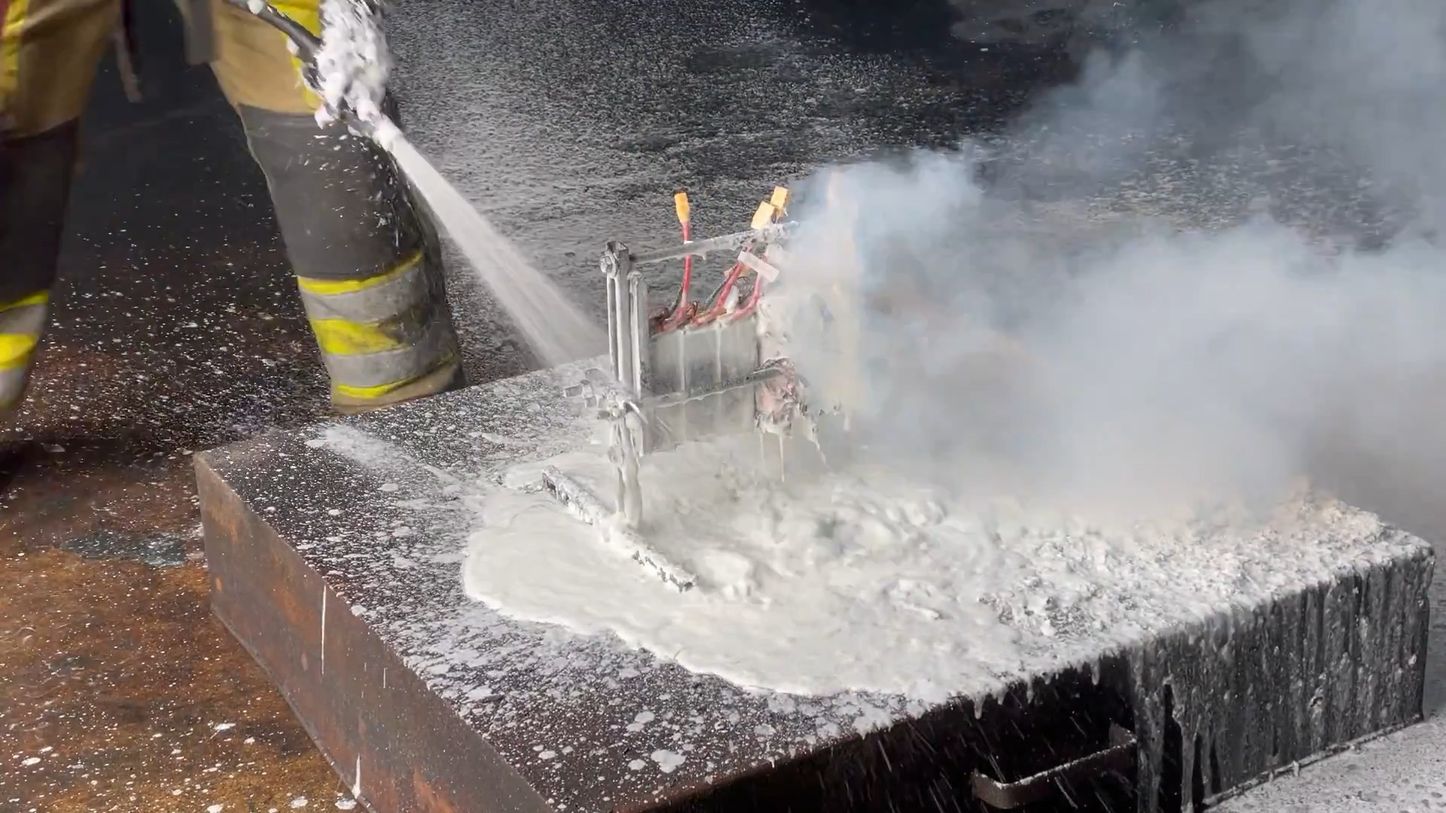smoke: (776, 1, 1446, 518)
